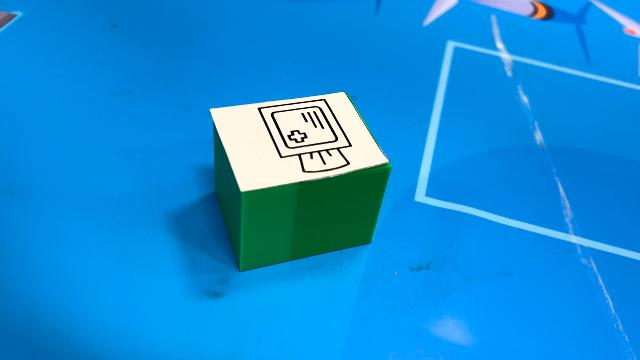napkin: (208, 90, 392, 272)
